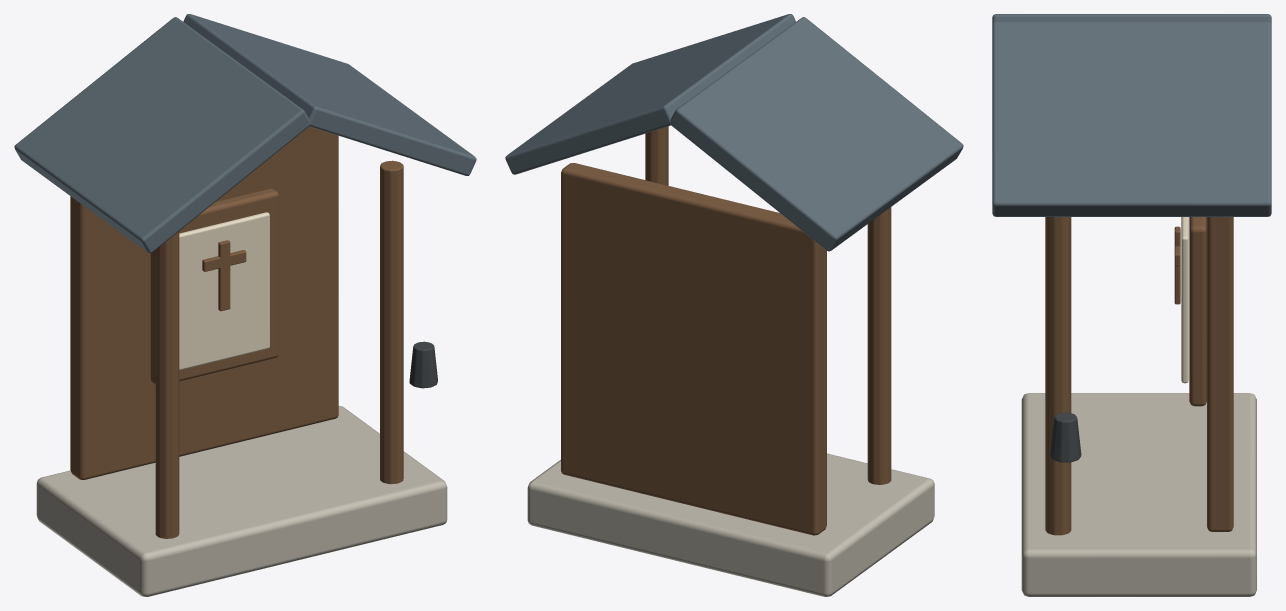
The model's file is Prop_Roadside_Shrine_01.fbx.
The picture shows the model from 3 angles, left to right: view 1: azimuth 30°, elevation 25°; view 2: azimuth 150°, elevation 25°; view 3: azimuth 270°, elevation 25°; orthographic projection. The views are drawn at different scales.
Parts seen in each view (by area): view 1: Shrine_Back, Shrine_Base, Shrine_Roof_L, Shrine_Roof_R, Shrine_Icon, Shrine_Post_0.95, Shrine_Post_-0.95, Shrine_IconFrame, Shrine_Lamp, Shrine_CrossV; view 2: Shrine_Back, Shrine_Roof_L, Shrine_Base, Shrine_Roof_R, Shrine_Post_-0.95, Shrine_Post_0.95; view 3: Shrine_Roof_R, Shrine_Base, Shrine_Back, Shrine_Post_0.95, Shrine_IconFrame, Shrine_Roof_L, Shrine_Lamp, Shrine_Icon, Shrine_CrossV.
Boxes of the visible parts, bbox=[...] form: Shrine_Back: bbox=[70, 126, 338, 479]; Shrine_Base: bbox=[36, 405, 447, 596]; Shrine_Roof_L: bbox=[14, 17, 309, 253]; Shrine_Roof_R: bbox=[183, 14, 476, 175]; Shrine_Icon: bbox=[179, 212, 269, 370]; Shrine_Post_0.95: bbox=[380, 160, 403, 484]; Shrine_Post_-0.95: bbox=[155, 231, 179, 538]; Shrine_IconFrame: bbox=[150, 188, 278, 384]; Shrine_Lamp: bbox=[409, 341, 437, 388]; Shrine_CrossV: bbox=[218, 240, 230, 311]; Shrine_Back: bbox=[561, 163, 826, 535]; Shrine_Roof_L: bbox=[670, 17, 963, 251]; Shrine_Base: bbox=[527, 453, 934, 596]; Shrine_Roof_R: bbox=[505, 14, 795, 174]; Shrine_Post_-0.95: bbox=[867, 207, 891, 484]; Shrine_Post_0.95: bbox=[645, 126, 668, 185]; Shrine_Roof_R: bbox=[992, 21, 1271, 216]; Shrine_Base: bbox=[1021, 393, 1256, 596]; Shrine_Back: bbox=[1207, 217, 1233, 531]; Shrine_Post_0.95: bbox=[1045, 217, 1071, 535]; Shrine_IconFrame: bbox=[1189, 217, 1206, 406]; Shrine_Roof_L: bbox=[992, 14, 1271, 23]; Shrine_Lamp: bbox=[1050, 412, 1081, 462]; Shrine_Icon: bbox=[1181, 217, 1188, 383]; Shrine_CrossV: bbox=[1174, 226, 1180, 304].
Size of the model in its own units: 284 by 376 by 190.
